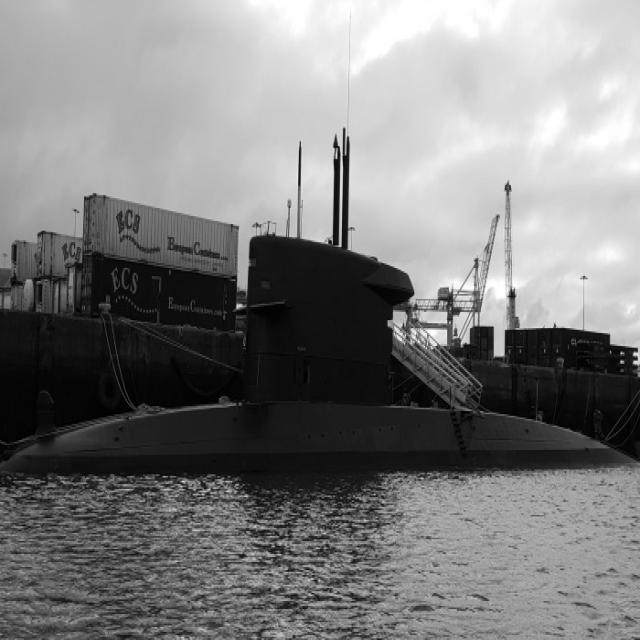submarine: (1, 123, 640, 472)
